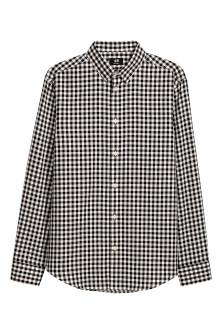teeshirt: (8, 40, 219, 298)
